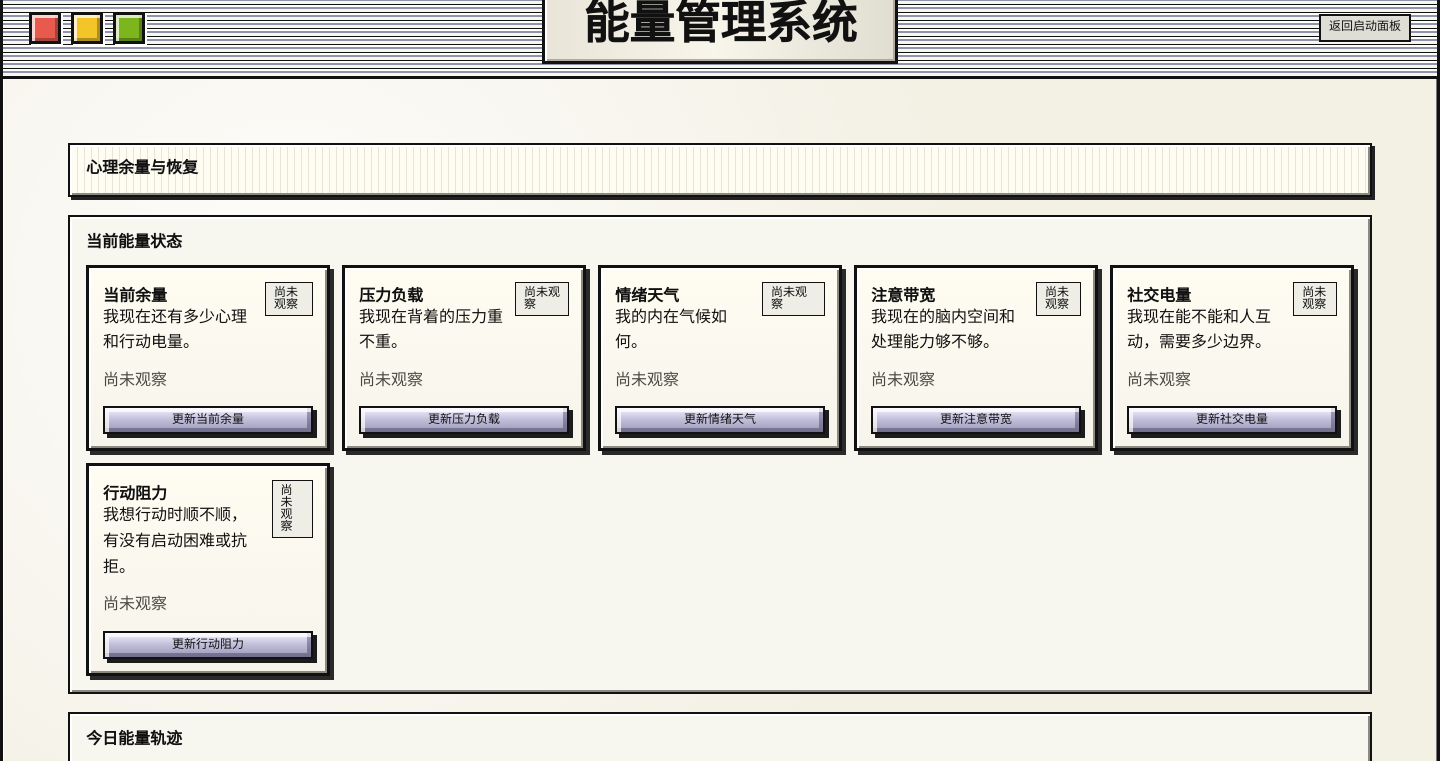
Test case: EnergyManagementPanel › lets the user record one dimension without forcing a full daily form
What coordinates should you click on to do the following:
click the button "更新当前余量"
I would click on:
 (208, 420)
Its box is [103,406,313,434].
(page scrolled)
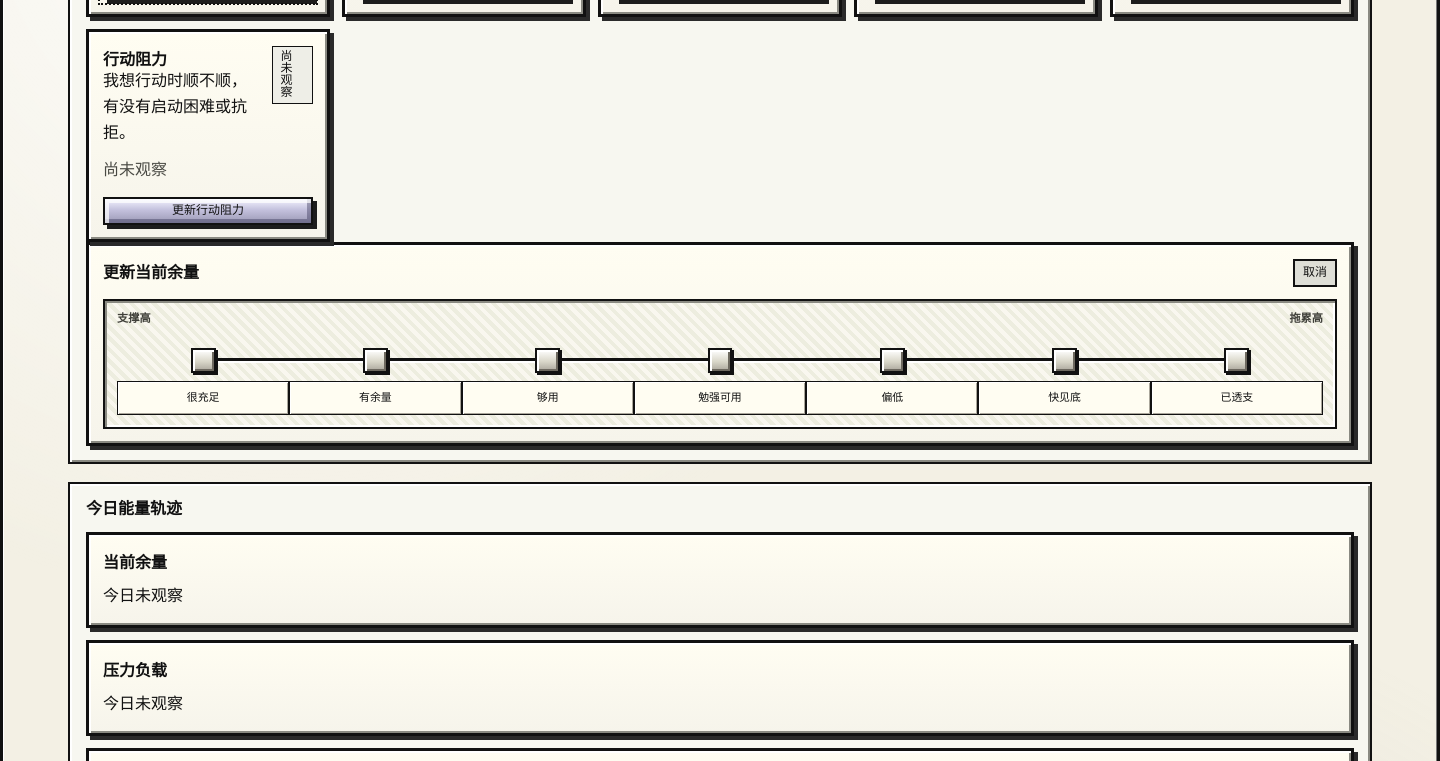
What coordinates should you click on to do the following:
click the button "有余量"
I would click on:
 (375, 382)
Its box is [289,348,462,415].
(page scrolled)
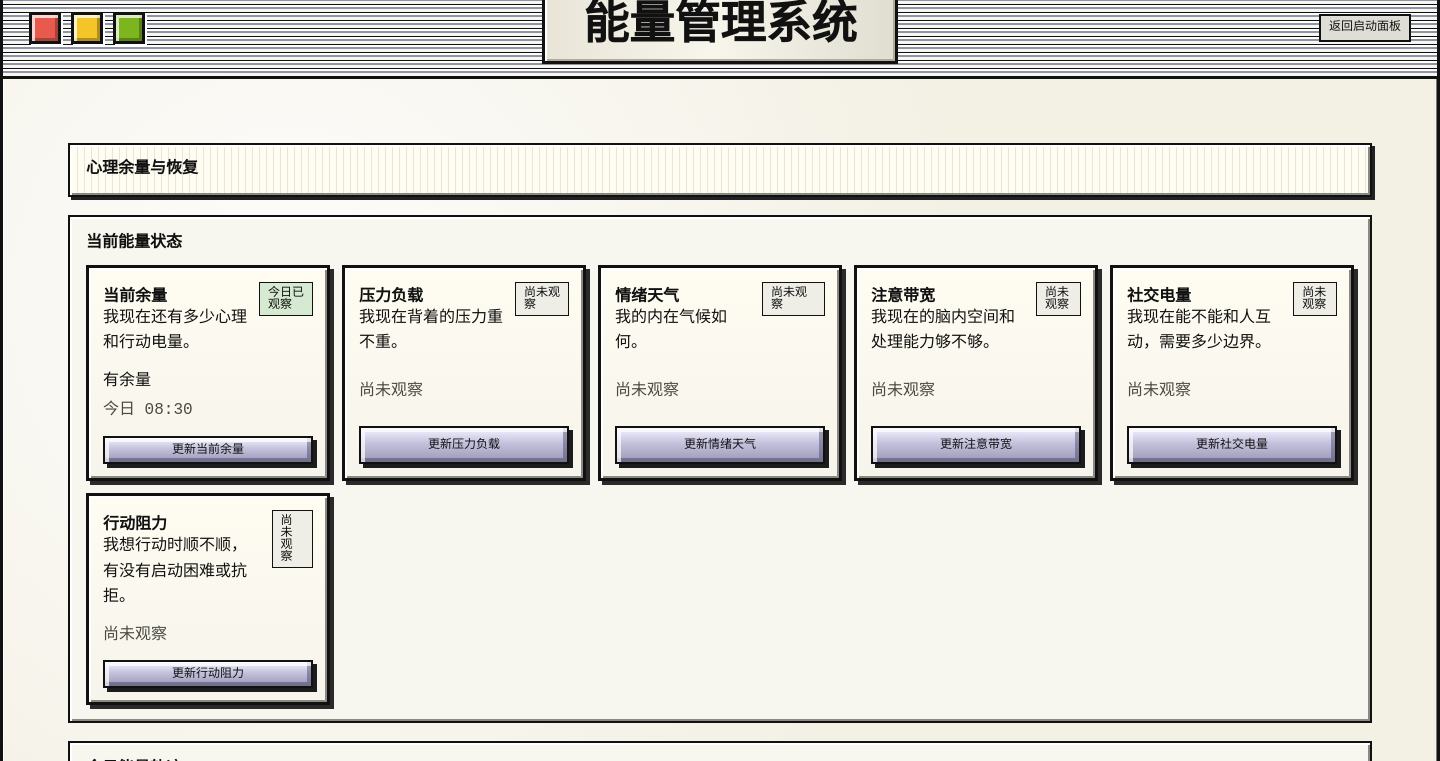
expect the text "尚未观察" next to "我现在背着的压力重不重。" is shown: met, box [524,286,560,312]
expect the text "今日已观察" is shown: met, box [259,282,313,316]
